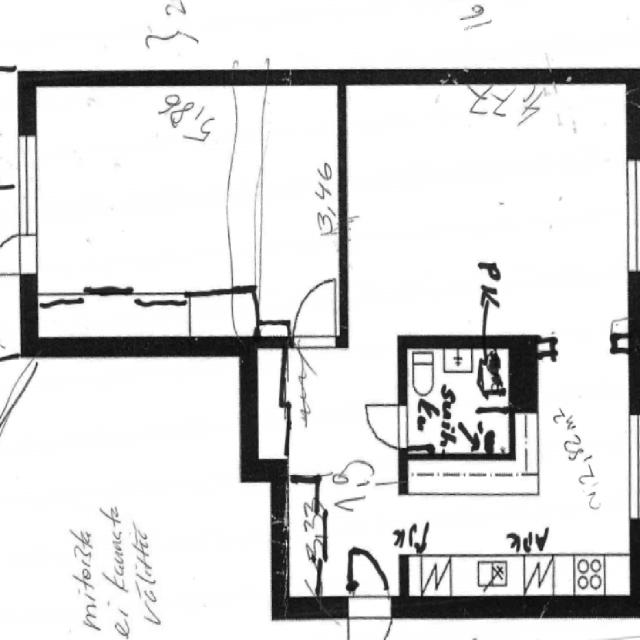door: (344, 542, 395, 640), (292, 272, 340, 348), (356, 390, 414, 452), (1, 228, 39, 278)
window: (11, 128, 43, 253), (617, 150, 640, 278), (621, 406, 640, 525)
zone: (287, 344, 639, 613), (28, 85, 344, 342), (347, 87, 632, 343), (399, 339, 516, 458)
